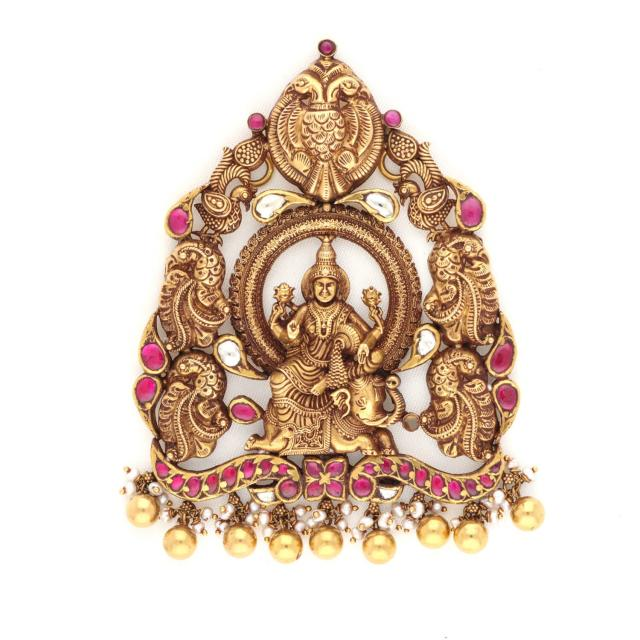missing gem: (403, 414, 419, 431)
